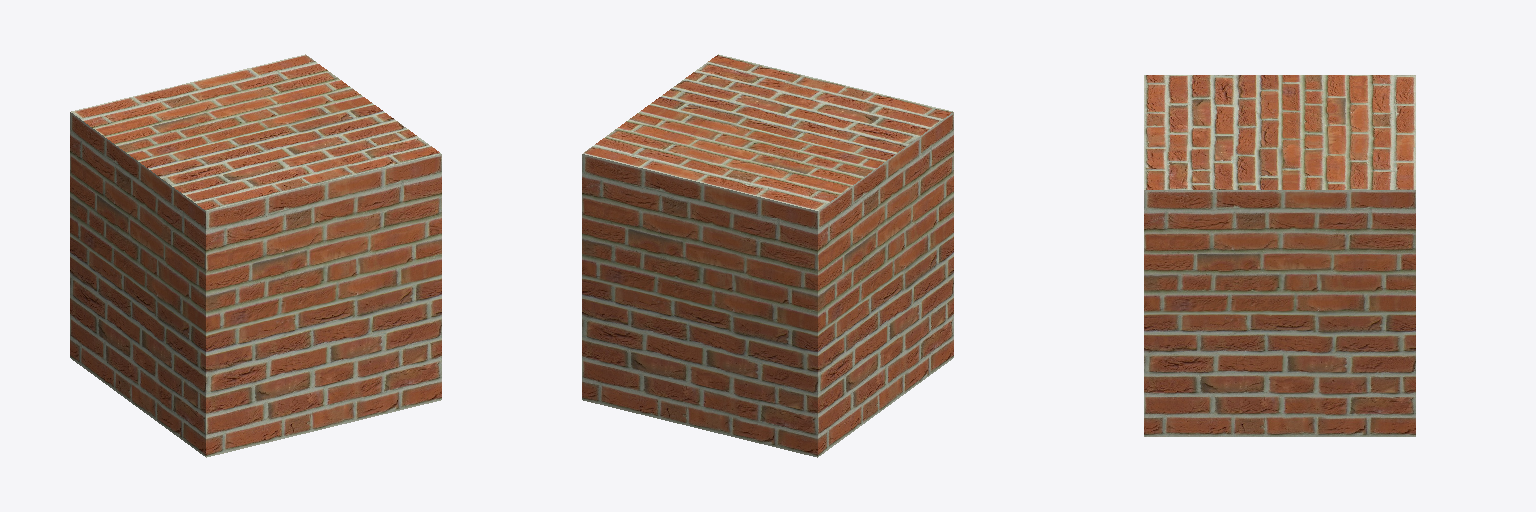
3 renders of one model, left to right at view 1: azimuth 30°, elevation 25°; view 2: azimuth 150°, elevation 25°; view 3: azimuth 270°, elevation 25°, orthographic.
Parts seen in each view (by area): view 1: cube; view 2: cube; view 3: cube.
Part boxes in pixels (left/top/right/bottom): cube: left=70, top=54, right=441, bottom=457; cube: left=582, top=54, right=953, bottom=457; cube: left=1144, top=75, right=1415, bottom=436.
Bounding box in the file's own units: 1 × 1 × 1.
1 materials, 1 textured.